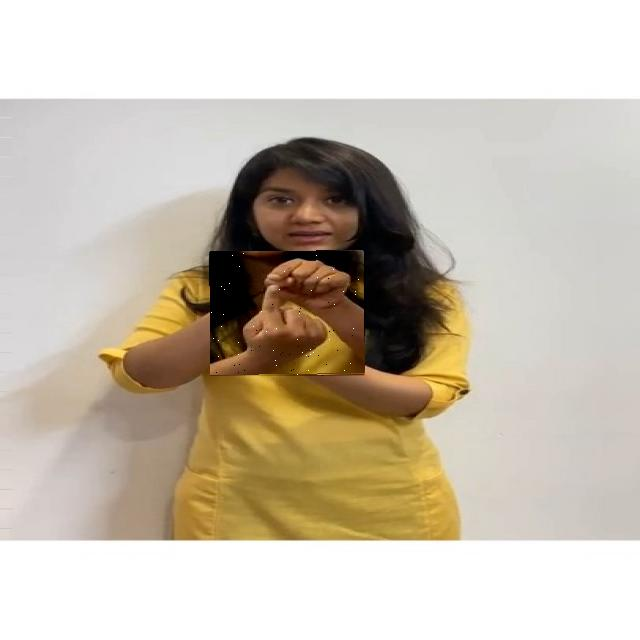I: (210, 251, 365, 376)
